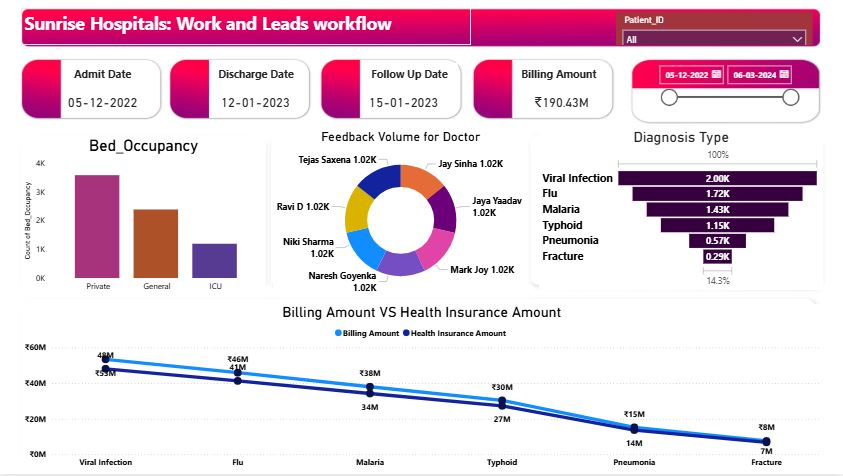

Layout of this report page (visuals, bound fields, positions):
{"tool":"powerbi","page":{"name":"Page 1","canvas":[1280,720],"ordinal":0},"visuals":[{"type":"textbox","box":[34,14.2,681.7,55.3],"z":0},{"type":"slicer","fields":{"Values":["Sheet1 (2).Patient_ID"]},"box":[935.4,19.8,297.6,49.6],"z":1000},{"type":"card","fields":{"Values":["Sheet1 (2).Admit_Date"]},"box":[82.2,137.5,150.2,36.9],"z":2000},{"type":"textbox","box":[90.7,96.4,131.8,41.1],"z":3000},{"type":"textbox","box":[327.4,96.4,138.9,41.1],"z":4000},{"type":"card","fields":{"Values":["Sheet1 (2).Discharge_Date"]},"box":[323.1,137.5,131.8,36.9],"z":5000},{"type":"card","fields":{"Values":["Sheet1 (2).Followup Date"]},"box":[547.1,137.5,131.8,36.9],"z":7000},{"type":"textbox","box":[558.4,96.4,136.1,32.6],"z":8000},{"type":"card","fields":{"Values":["Sheet1 (2).Billing Amount"]},"box":[786.6,137.5,131.8,36.9],"z":9000},{"type":"textbox","box":[786.6,96.4,131.8,32.6],"z":10000},{"type":"slicer","fields":{"Values":["Sheet1 (2).Admit_Date"]},"box":[987.9,90.7,233.9,76.5],"z":11000},{"type":"columnChart","title":"Bed_Occupancy","fields":{"Category":["Sheet1 (2).Bed_Occupancy"],"Y":["Sheet1 (2).Bed_Occupancy"]},"box":[34,206.9,371.3,245.2],"z":12000},{"type":"donutChart","title":"Feedback Volume for Doctor","fields":{"Category":["Sheet1 (2).Doctor"],"Y":["Sheet1 (2).Doctor"]},"box":[415.3,197,386.9,255.1],"z":13000},{"type":"funnel","title":"Diagnosis Type","fields":{"Category":["Sheet1 (2).Diagnosis"],"Y":["Sheet1 (2).Diagnosis"]},"box":[817.8,197,430.9,243.8],"z":13001},{"type":"lineChart","title":"Billing Amount VS Health Insurance Amount","fields":{"Y":["Sheet1 (2).Billing Amount","Sheet1 (2).Health Insurance Amount"],"Category":["Sheet1 (2).Diagnosis"]},"box":[34,462,1214.6,258],"z":13002}]}

Visuals, with their boxes in screenshot pixels (x1, y1, x2, y2), scaled from the page's 1280x720 canvas onto the 843x476 screenshot:
textbox: x1=22, y1=9, x2=471, y2=46
slicer - Sheet1 (2).Patient_ID: x1=616, y1=13, x2=812, y2=46
card - Sheet1 (2).Admit_Date: x1=54, y1=91, x2=153, y2=115
textbox: x1=60, y1=64, x2=147, y2=91
textbox: x1=216, y1=64, x2=307, y2=91
card - Sheet1 (2).Discharge_Date: x1=213, y1=91, x2=300, y2=115
card - Sheet1 (2).Followup Date: x1=360, y1=91, x2=447, y2=115
textbox: x1=368, y1=64, x2=457, y2=85
card - Sheet1 (2).Billing Amount: x1=518, y1=91, x2=605, y2=115
textbox: x1=518, y1=64, x2=605, y2=85
slicer - Sheet1 (2).Admit_Date: x1=651, y1=60, x2=805, y2=111
"Bed_Occupancy" columnChart: x1=22, y1=137, x2=267, y2=299
"Feedback Volume for Doctor" donutChart: x1=274, y1=130, x2=528, y2=299
"Diagnosis Type" funnel: x1=539, y1=130, x2=822, y2=291
"Billing Amount VS Health Insurance Amount" lineChart: x1=22, y1=305, x2=822, y2=475
